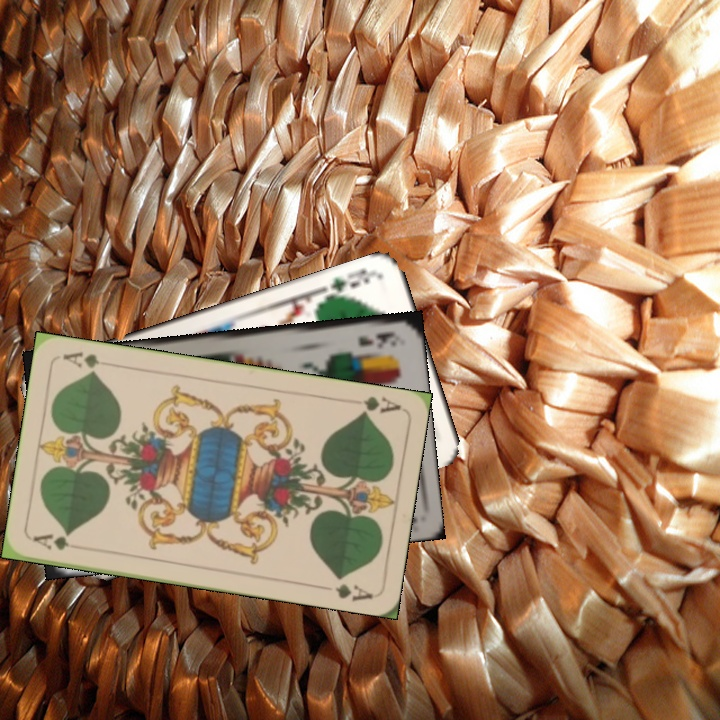EK: (355, 328, 397, 350)
GA: (29, 529, 87, 553), (354, 392, 403, 418)
GK: (319, 264, 378, 304)
